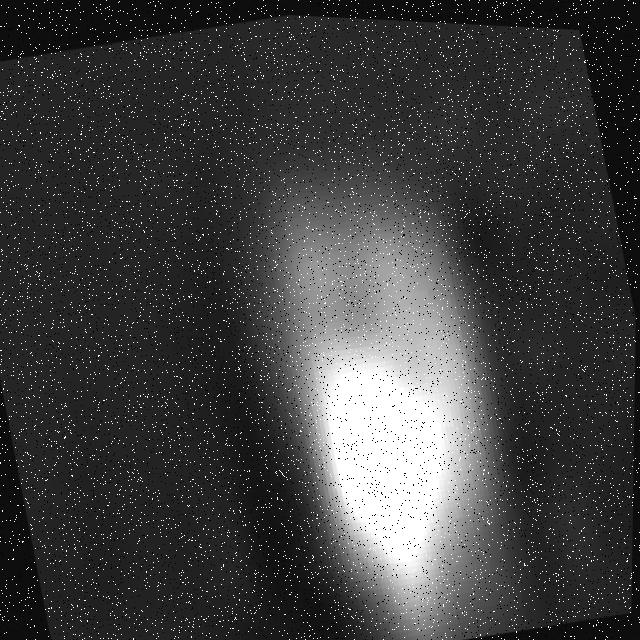person: (220, 101, 552, 640)
